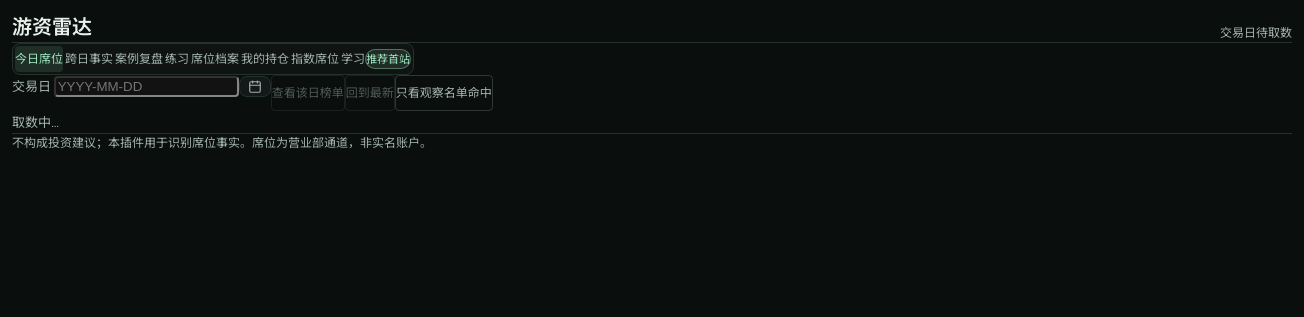
Scenario: YouziPage · 案例复盘页签（Y3-07） › 前取的上下文日单列说明，且声明不计入事件范围
Click the button titled "按证券代码与日期区间查看披露事件时间线".
click(139, 59)  # box x1=115 y1=46 x2=163 y2=72
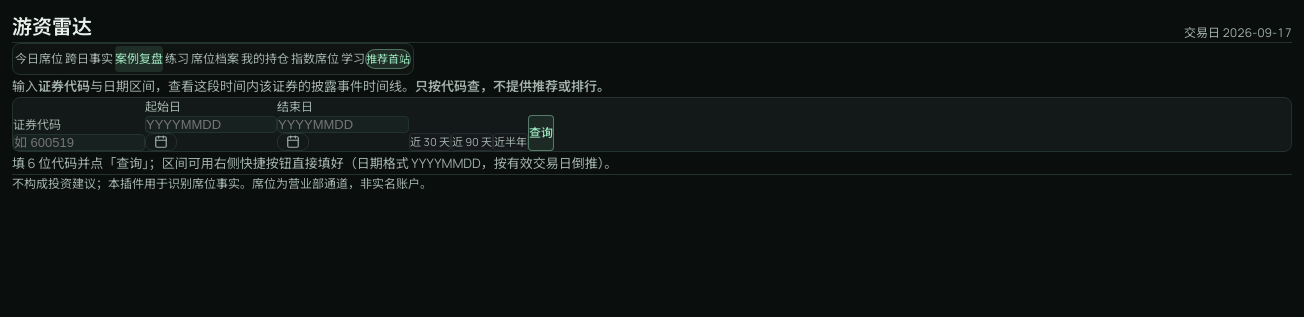
Expected: the button "查询" is shown, x1=528 y1=115 x2=554 y2=151
Type "600519" into the field with placeholder "如 600519".
click(79, 143); type("600519")  # box x1=13 y1=134 x2=145 y2=151
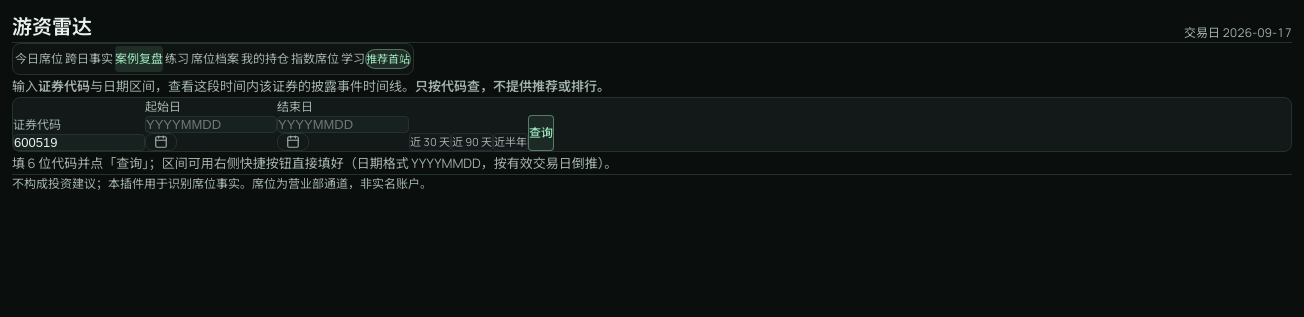
Type "20260907" into the field with placeholder "YYYYMMDD".
click(211, 125); type("20260907")  # box x1=145 y1=116 x2=277 y2=133
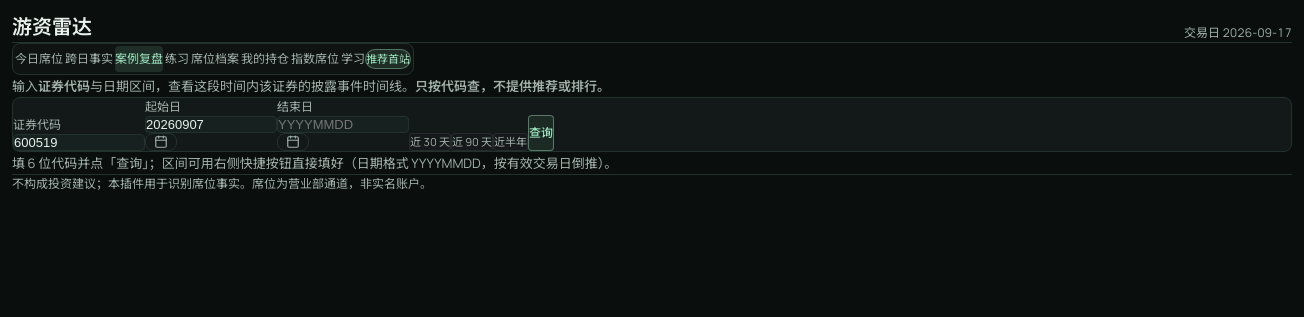
Type "20260917" into the field with placeholder "YYYYMMDD".
click(343, 125); type("20260917")  # box x1=277 y1=116 x2=409 y2=133
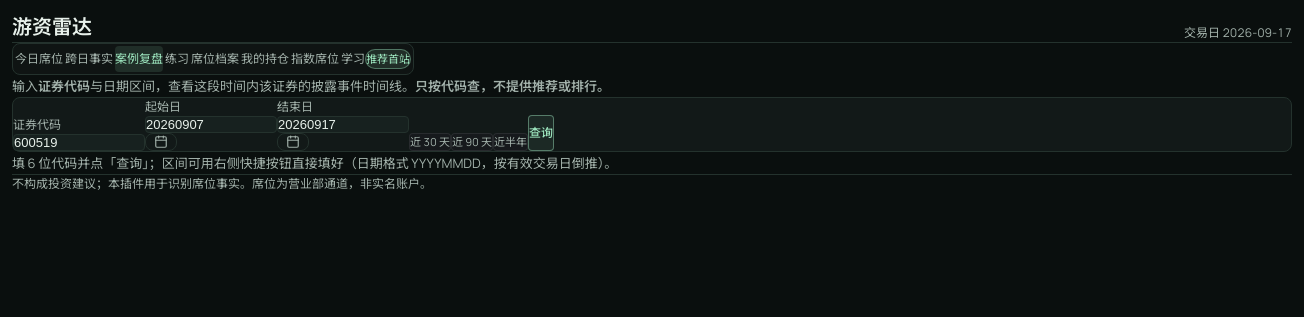
Click the button "查询".
click(541, 133)  # box x1=528 y1=115 x2=554 y2=151
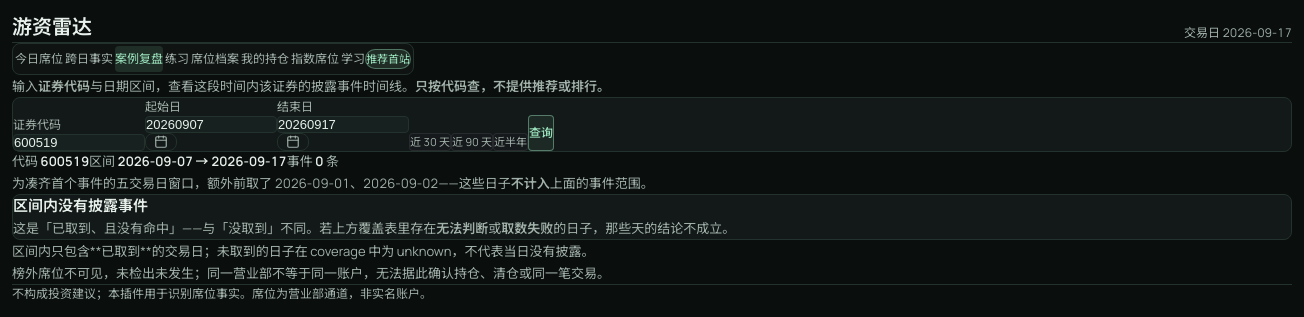
Expected: the text "额外前取了" is shown, x1=12 y1=174 x2=272 y2=192
Expected: the text "不计入" is shown, x1=511 y1=174 x2=550 y2=192
